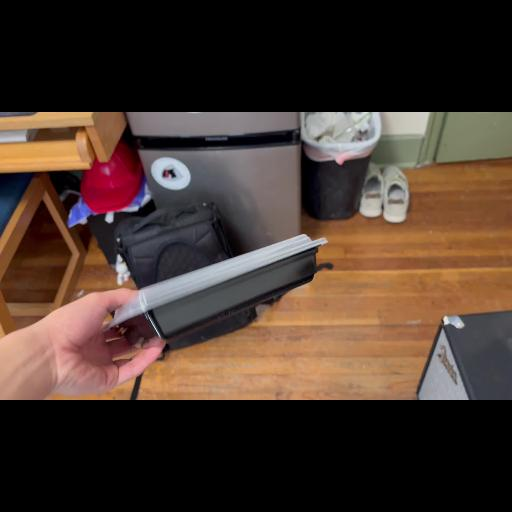rigid_plastic_container: (106, 234, 326, 350)
